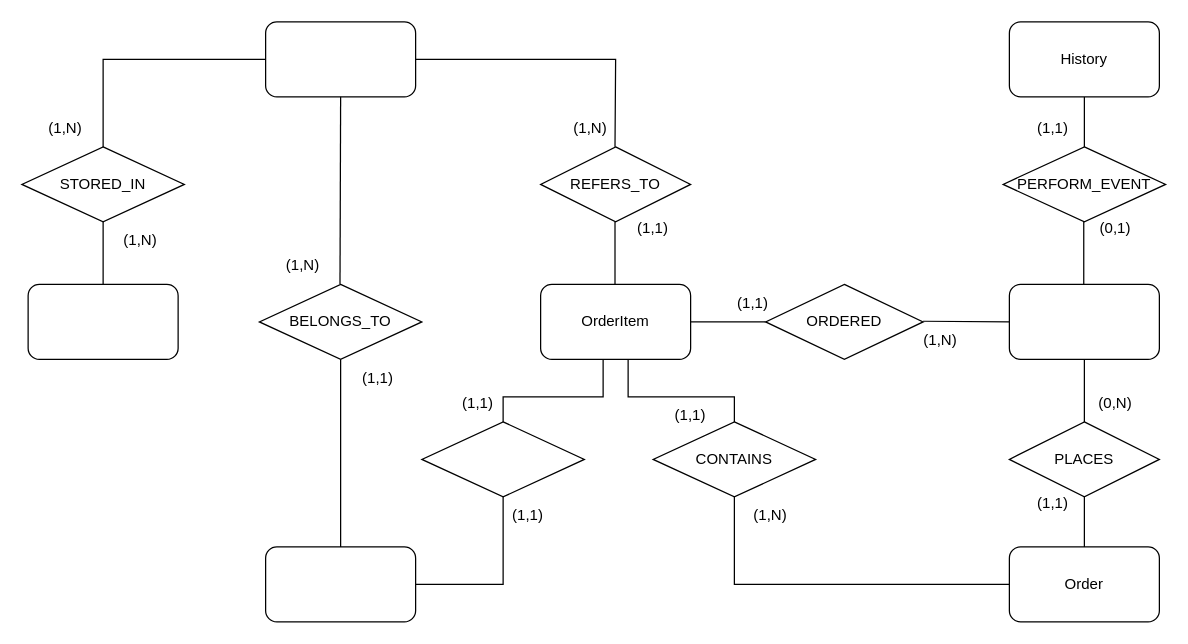
Some shapes in this 1188 by 644 pixel diagram are drawn without their labels. Here are the shapes that lost their labels. From the top down, the box of each, then its label:
(264, 21, 416, 97): Product
(27, 283, 178, 359): DistributionCenter
(1008, 283, 1159, 359): User
(421, 421, 584, 497): SOLD_IN
(264, 546, 416, 622): InventoryItem
